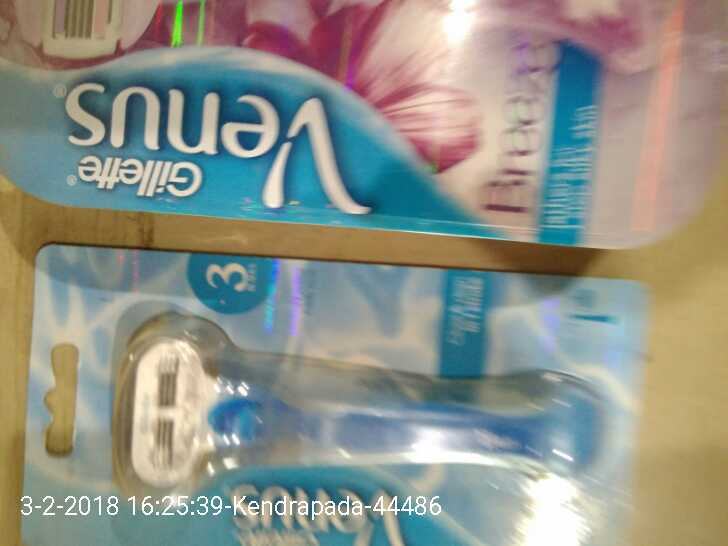reject: (266, 187, 329, 255)
